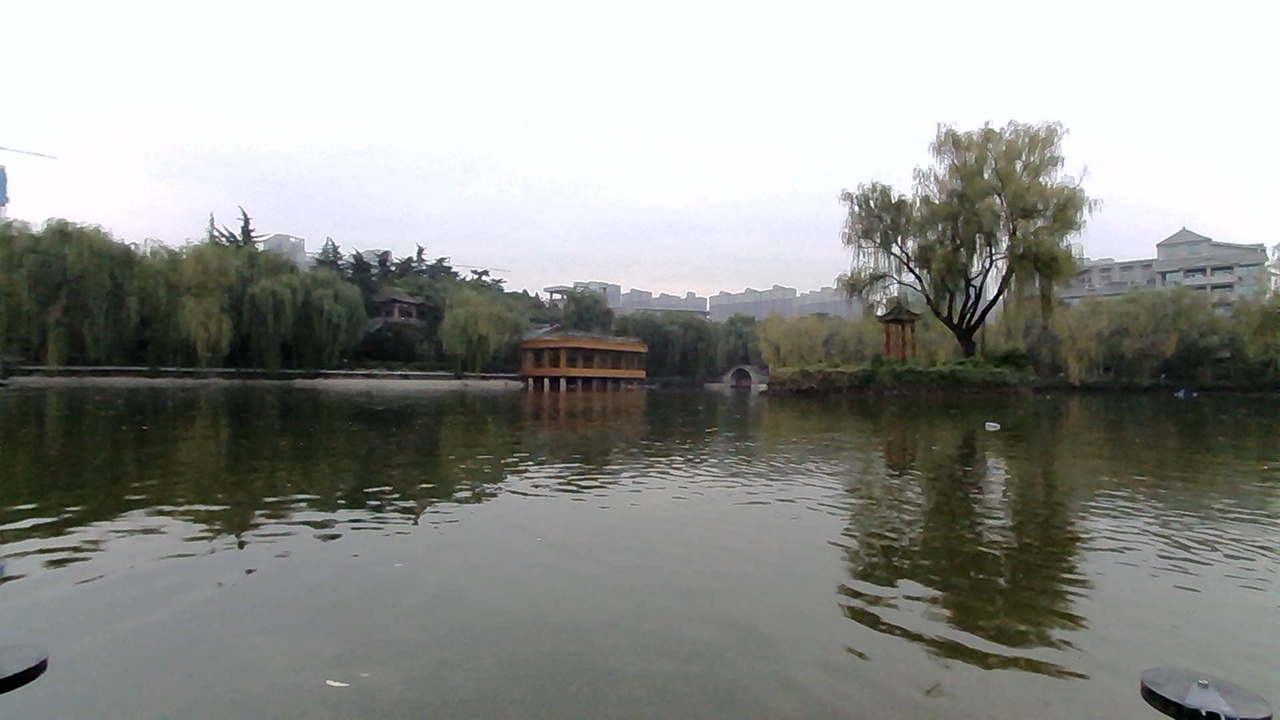bottle: (963, 402, 1018, 434)
